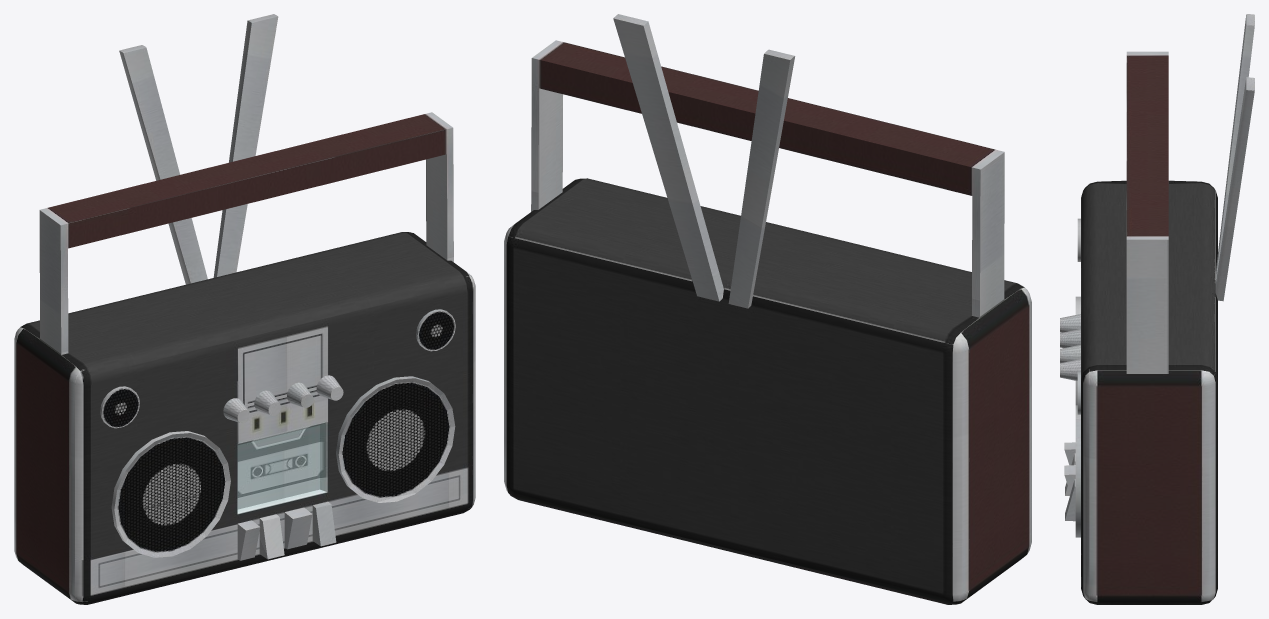
File: Radio Textured.fbx
The picture shows the model from 3 angles, left to right: view 1: azimuth 30°, elevation 25°; view 2: azimuth 150°, elevation 25°; view 3: azimuth 270°, elevation 25°; orthographic projection. The views are drawn at different scales.
Parts seen in each view (by area): view 1: radio:polySurface1; view 2: radio:polySurface1; view 3: radio:polySurface1.
Boxes of the visible parts, bbox=[...] form: radio:polySurface1: bbox=[14, 14, 475, 604]; radio:polySurface1: bbox=[504, 14, 1031, 604]; radio:polySurface1: bbox=[1060, 14, 1254, 604].
Size of the model in its own units: 107 by 118 by 44.94.
